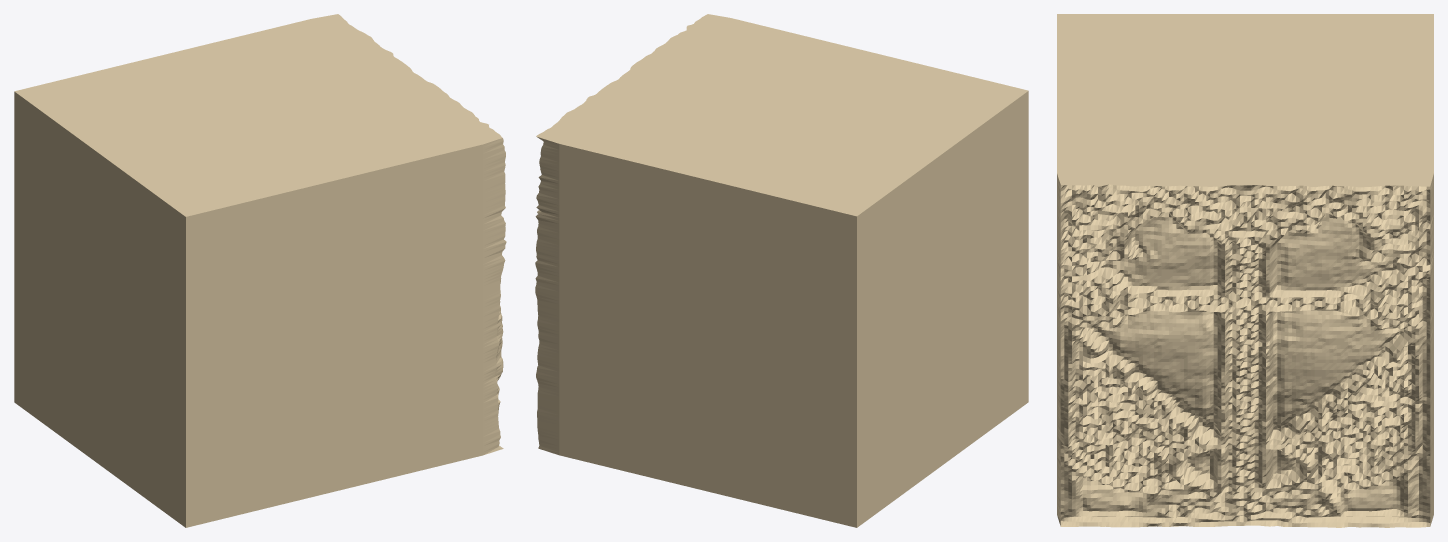
Rendered from cross2.png - copia.obj.
The picture shows the model from 3 angles, left to right: view 1: azimuth 30°, elevation 25°; view 2: azimuth 150°, elevation 25°; view 3: azimuth 270°, elevation 25°; orthographic projection. The views are drawn at different scales.
Parts seen in each view (by area): view 1: Cube; view 2: Cube; view 3: Cube.
Part boxes in pixels (box(x1,y1,x2,y2)): Cube: box(14, 14, 506, 527); Cube: box(535, 14, 1028, 527); Cube: box(1057, 14, 1433, 527).
Size of the model in its own units: 1.1 by 1 by 1.
